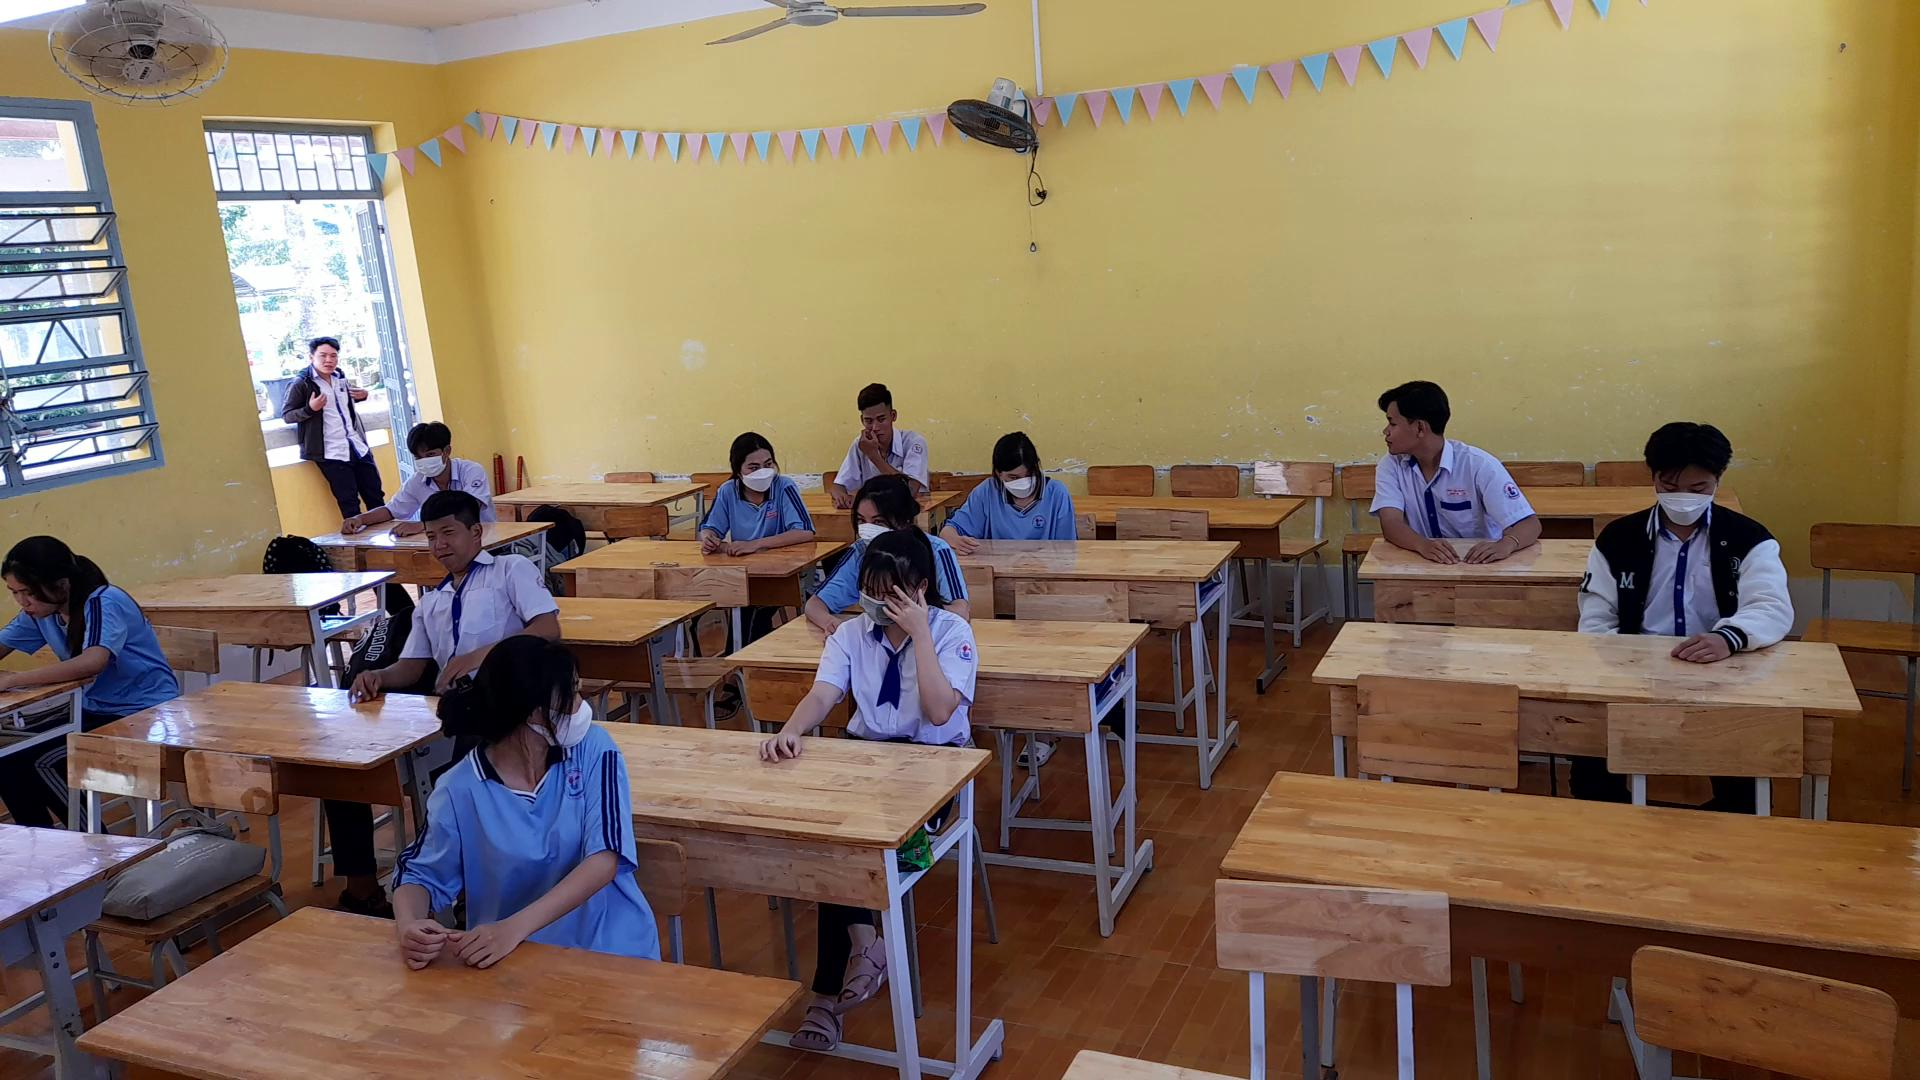Bend Over The Desk: (1630, 409, 1739, 537)
Hand Under Table: (1559, 506, 1640, 644), (1036, 476, 1080, 543)
Look Around: (418, 629, 599, 770), (1352, 371, 1462, 477)
Normal: (0, 534, 173, 717), (682, 415, 820, 567), (400, 485, 538, 637), (388, 396, 492, 506)
